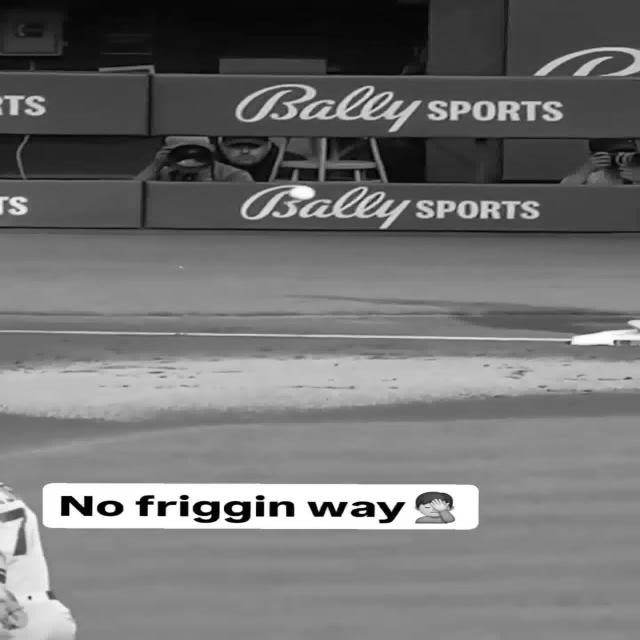base: (571, 329, 640, 346)
baseball: (289, 185, 316, 200)
